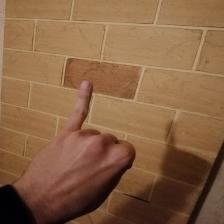five: (33, 79, 140, 213)
